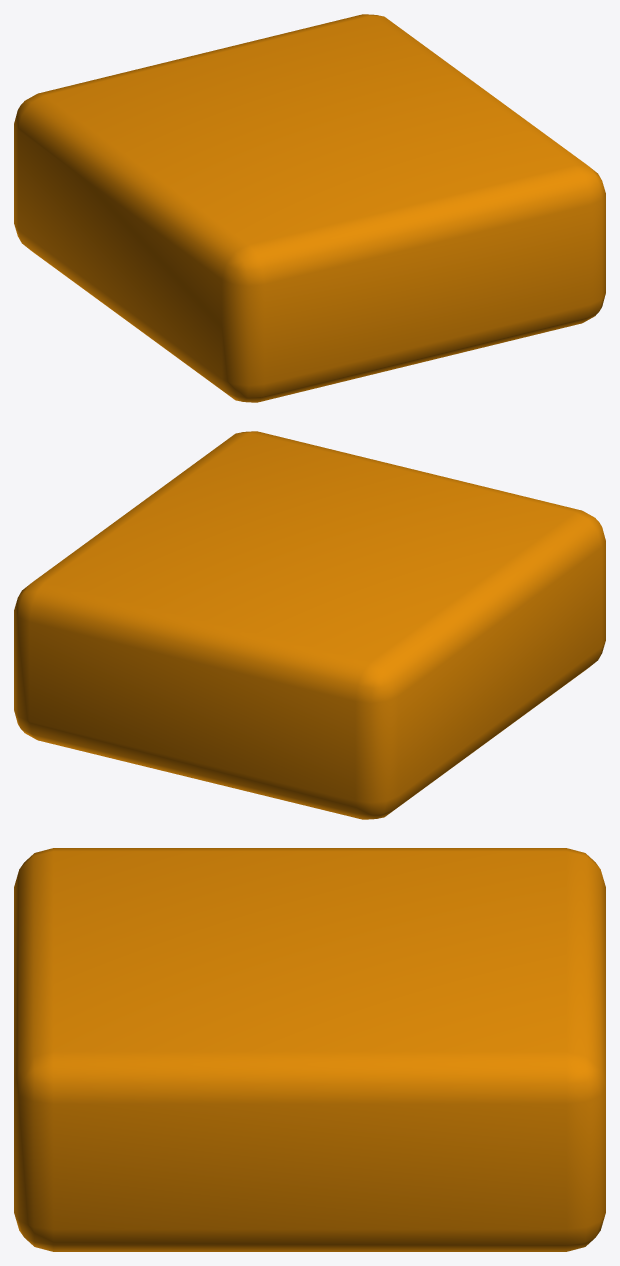
The model's file is body_yellow.obj.
The picture shows the model from 3 angles, top to bottom: view 1: azimuth 30°, elevation 25°; view 2: azimuth 150°, elevation 25°; view 3: azimuth 270°, elevation 25°; orthographic projection. The views are drawn at different scales.
Visible parts, largest first — view 1: body_yellow; view 2: body_yellow; view 3: body_yellow.
Boxes of the visible parts, x1,y1,x2,y2 form: body_yellow: [14, 14, 605, 402]; body_yellow: [14, 431, 605, 819]; body_yellow: [14, 848, 605, 1251].
Size of the model in its own units: 0.056 by 0.022 by 0.06.
